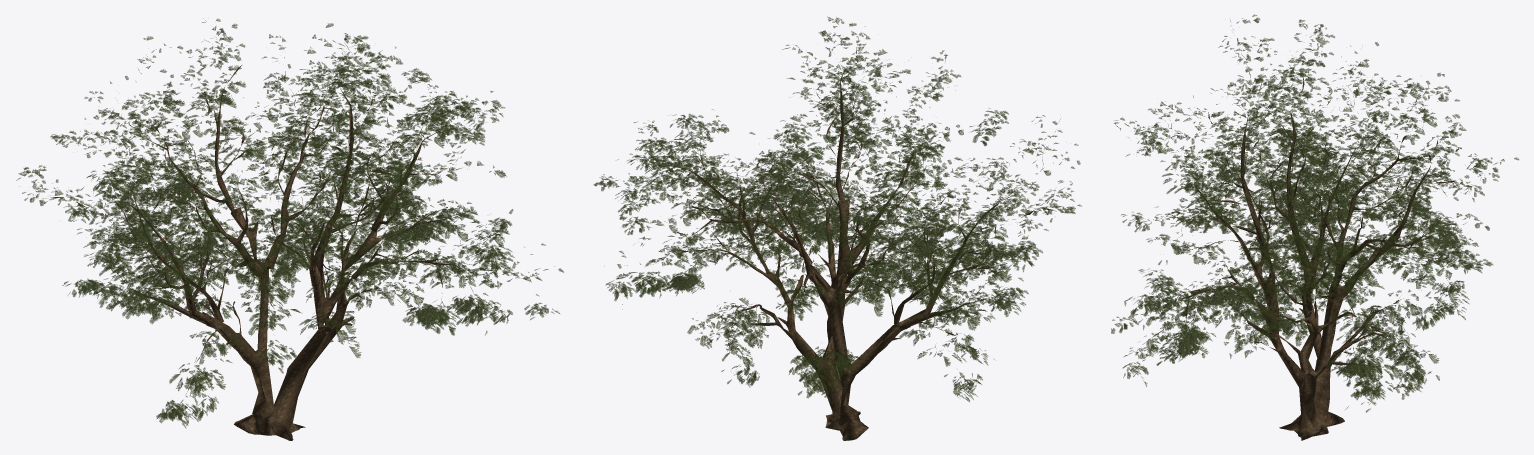
The model's file is tree.glb.
3 views of the same model, side by side, from view 1: azimuth 30°, elevation 25°; view 2: azimuth 150°, elevation 25°; view 3: azimuth 270°, elevation 25° (orthographic). The views are drawn at different scales.
Visible parts, largest first — view 1: jacaranda_tree_LOD1; view 2: jacaranda_tree_LOD1; view 3: jacaranda_tree_LOD1.
Part boxes in pixels (x1,y1,x2,y2): jacaranda_tree_LOD1: (16,18,563,440); jacaranda_tree_LOD1: (593,16,1081,440); jacaranda_tree_LOD1: (1111,14,1518,440).
Bounding box in the file's own units: 23.8 × 19.26 × 18.83.
Materials: 3 (3 with a texture image).
